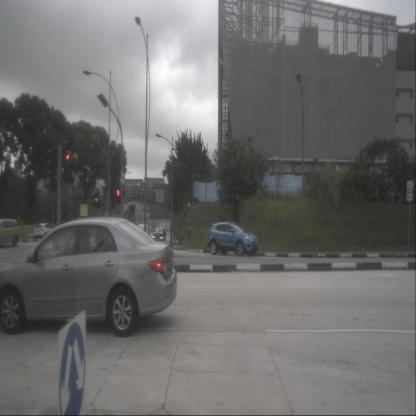vehicle-car: (0, 216, 177, 337), (207, 222, 258, 258), (0, 219, 21, 247), (34, 223, 55, 240), (136, 224, 150, 240), (153, 227, 167, 242)
